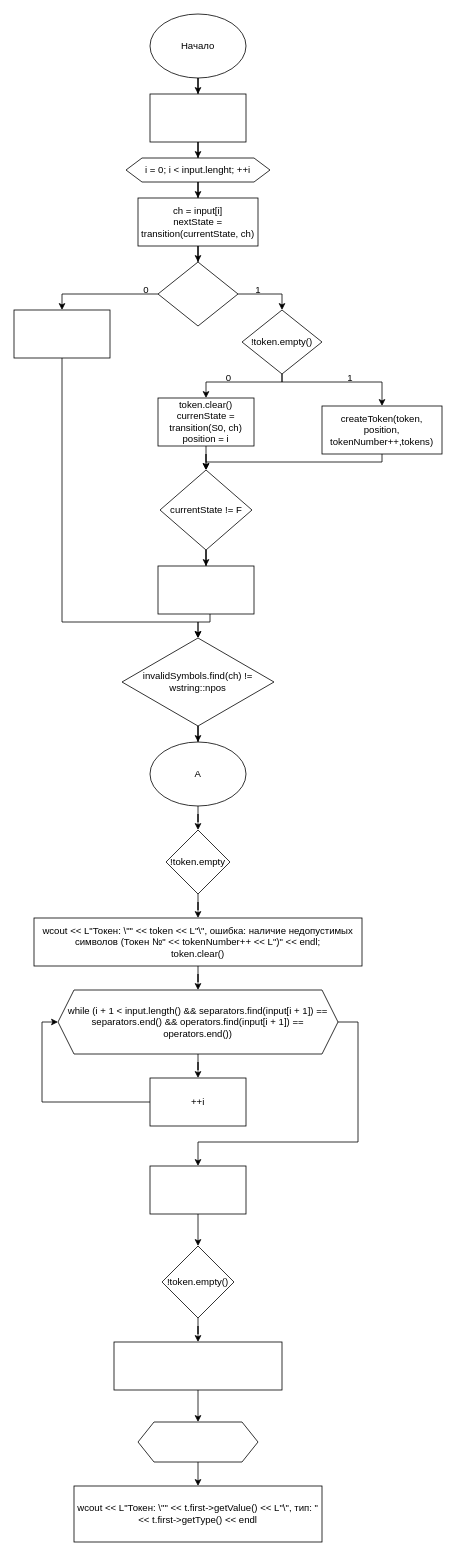
Some shapes in this 456 by 1556 pixel diagram are drawn without their labels. Here are the shapes that lost their labels. From the top down, the centre of each, then its label:
point 197,117: currentState = S0 token = ''" position = 0 tokenNumber = 1
point 197,293: nextState == F
point 61,333: token+=ch currentState = nextState
point 205,589: token += ch
point 197,1189: currentState = S0
point 197,1365: createToken(token, position, tokenNumber++, tokens)
point 197,1441: const auto& t : tokens
